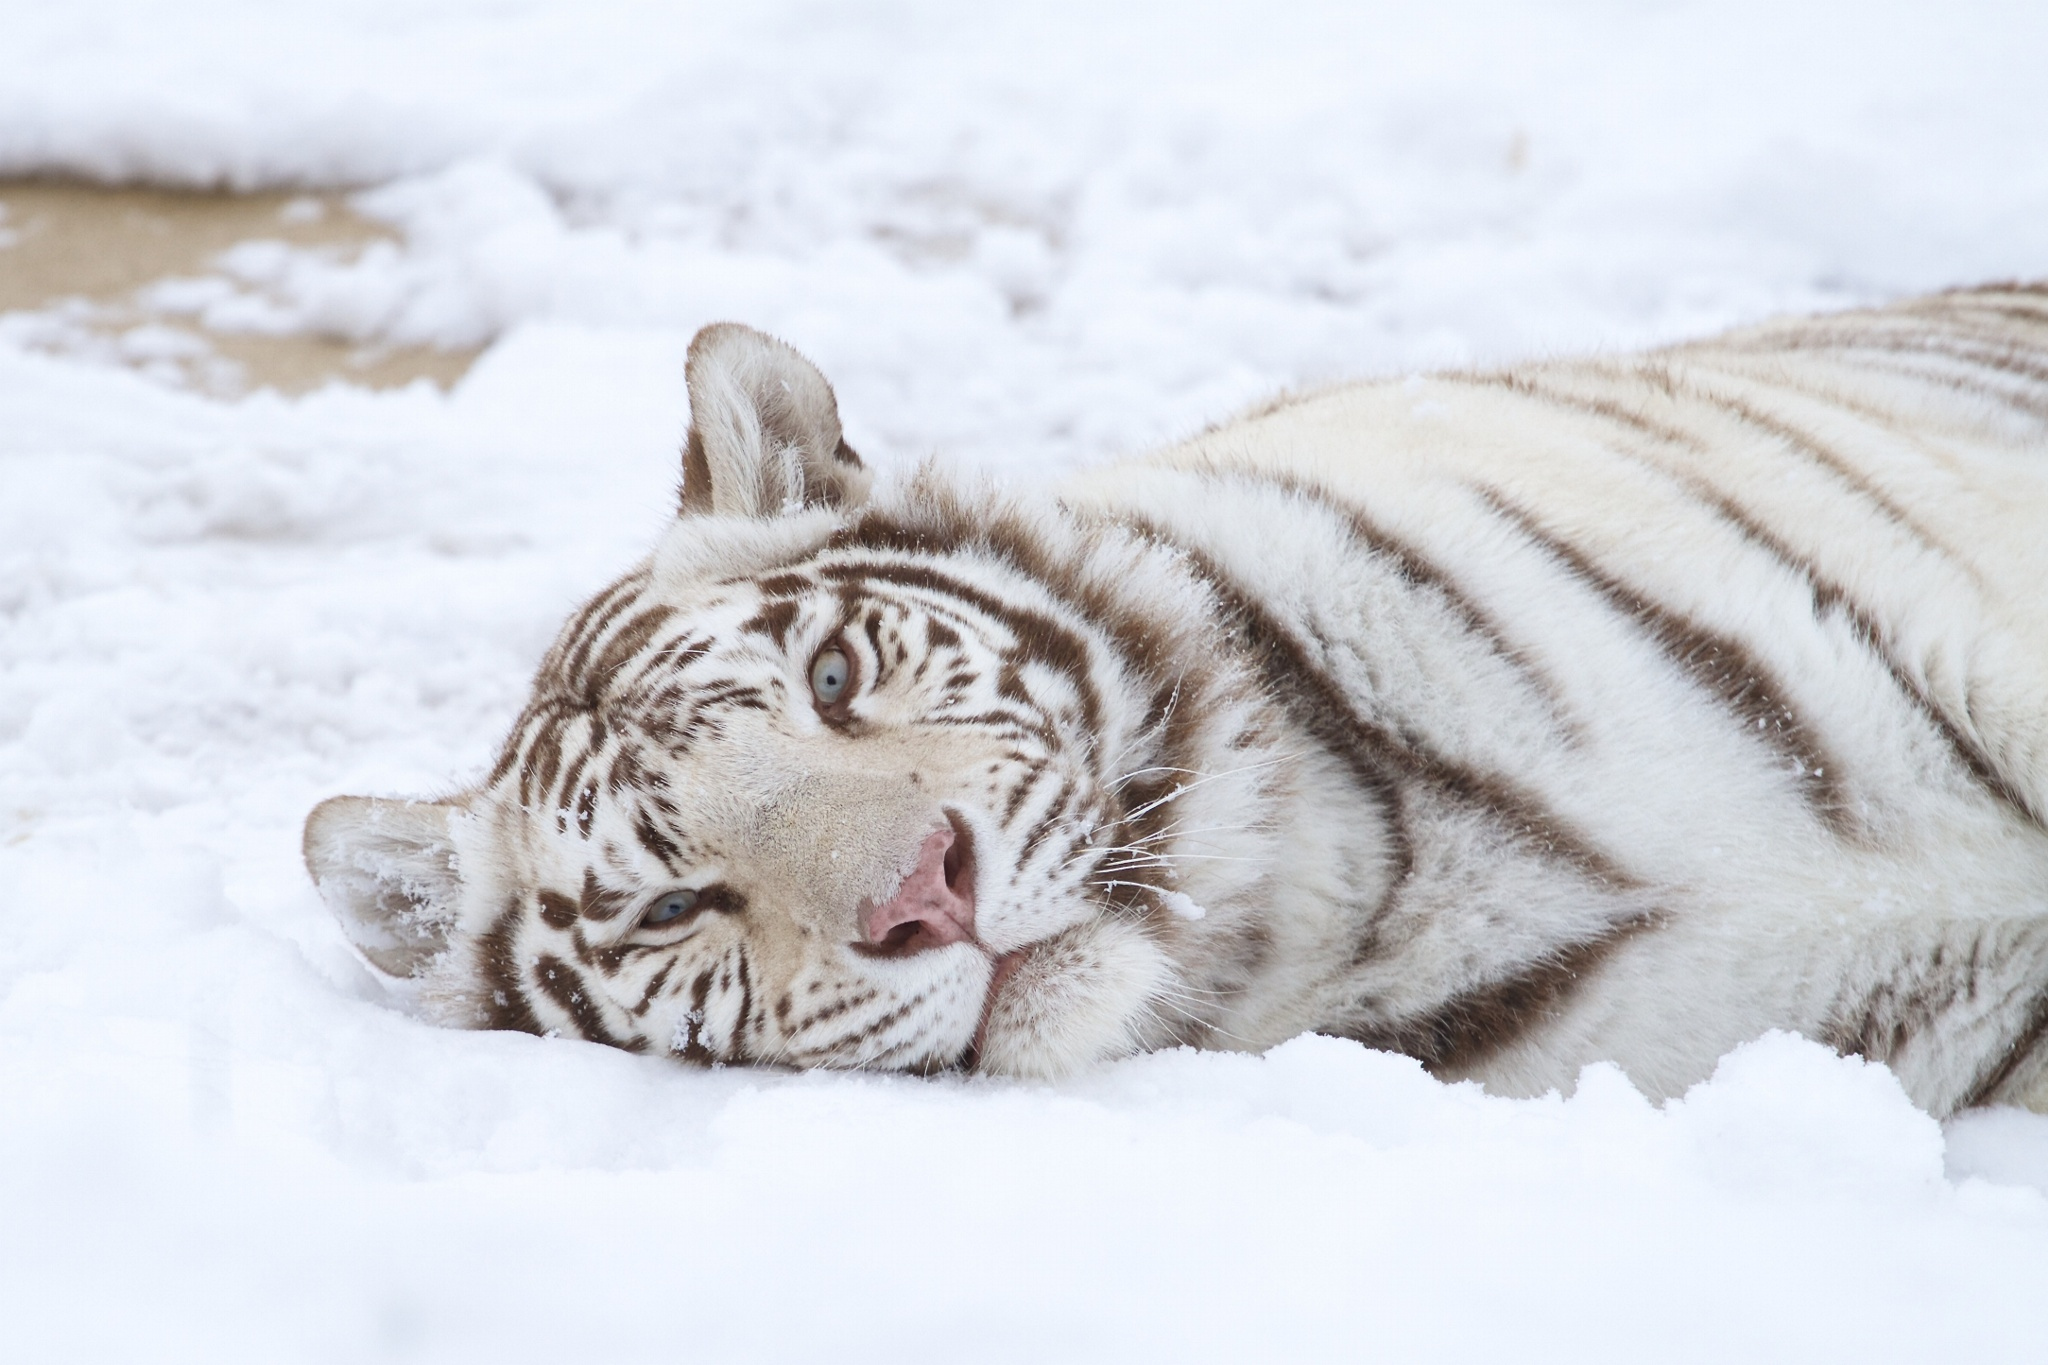tiger: (340, 300, 2048, 1089)
